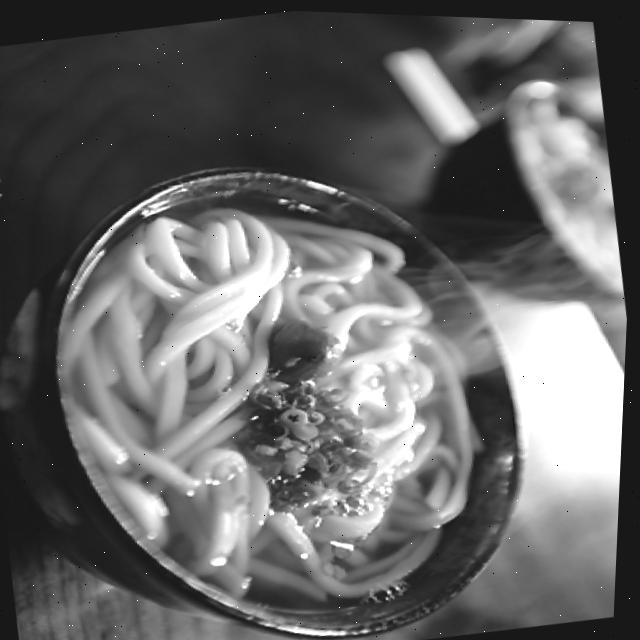面条主食: (0, 80, 569, 640)
